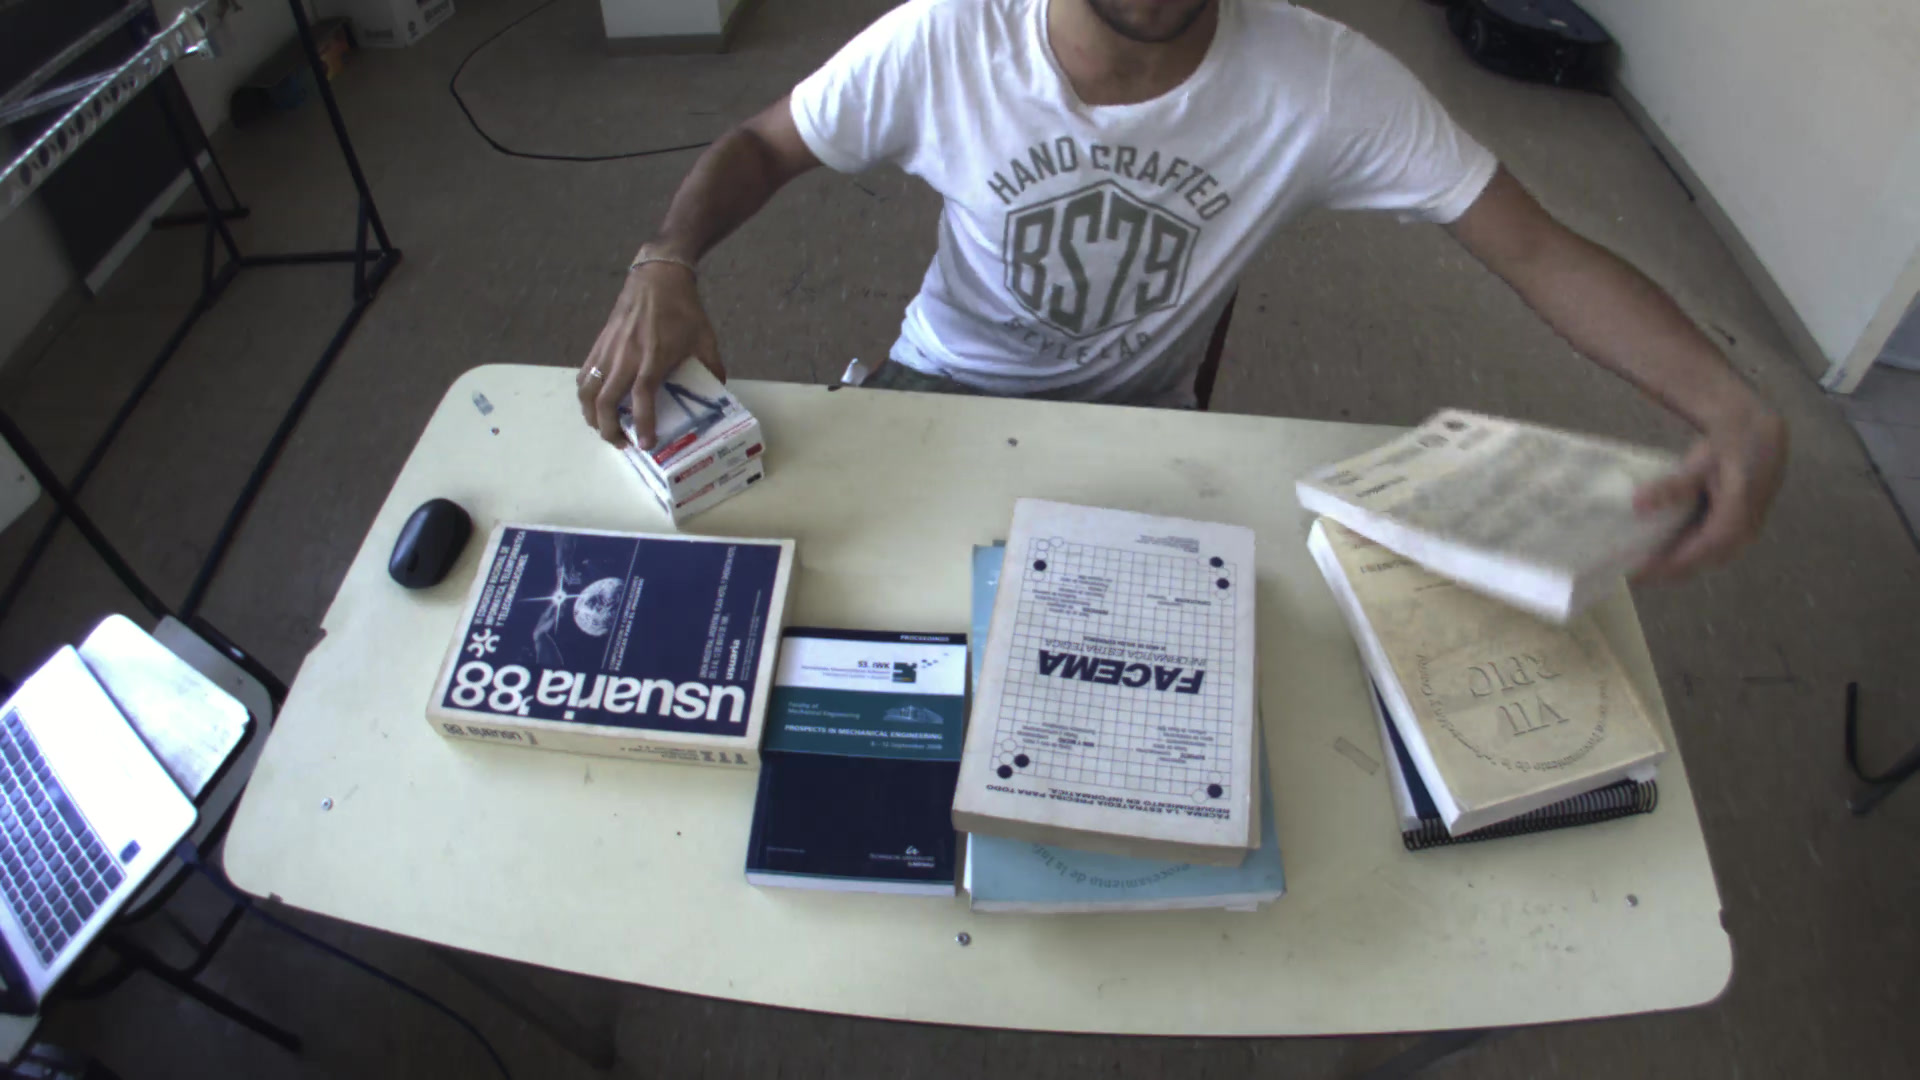hand: (564, 235, 725, 434)
